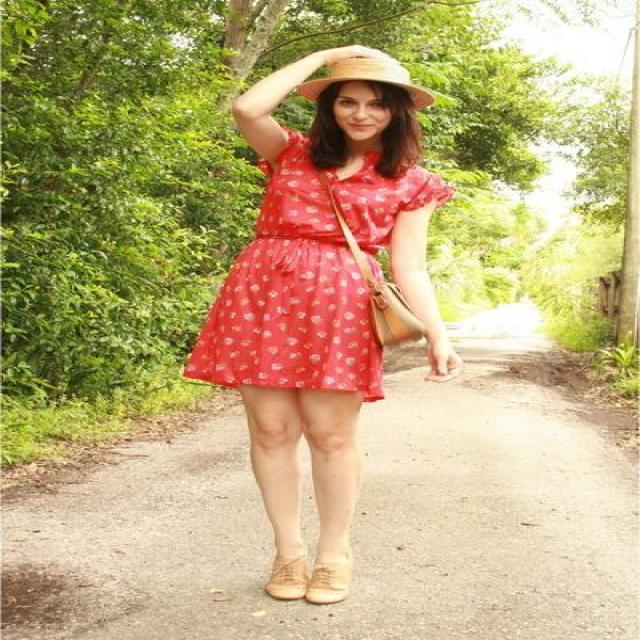bag: (347, 243, 427, 345)
dress: (182, 141, 453, 401)
hat: (288, 48, 454, 114)
shoe: (266, 550, 338, 593)
